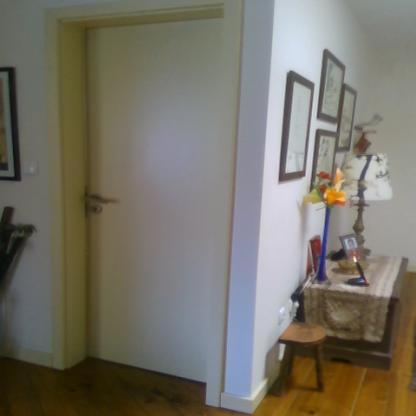door: (87, 29, 217, 384)
lever: (84, 195, 112, 207)
